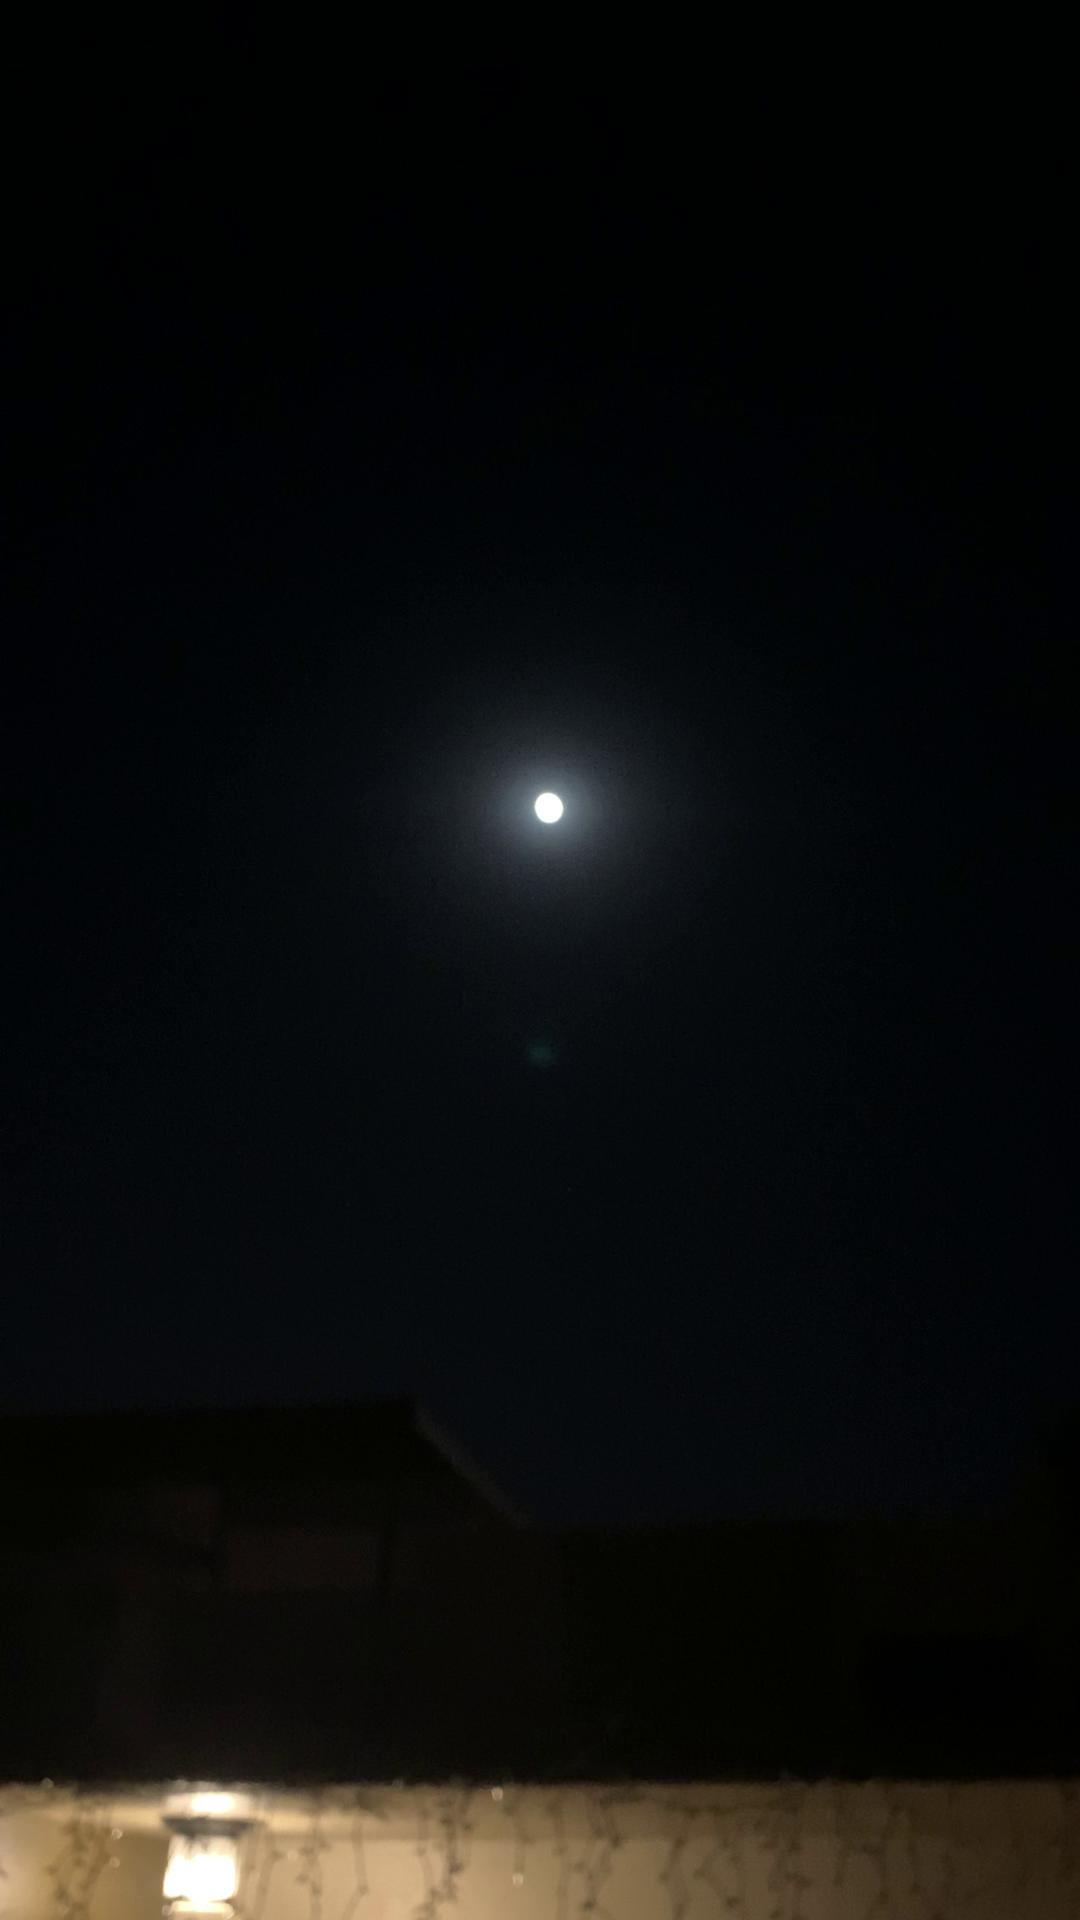moon: (509, 757, 596, 853)
